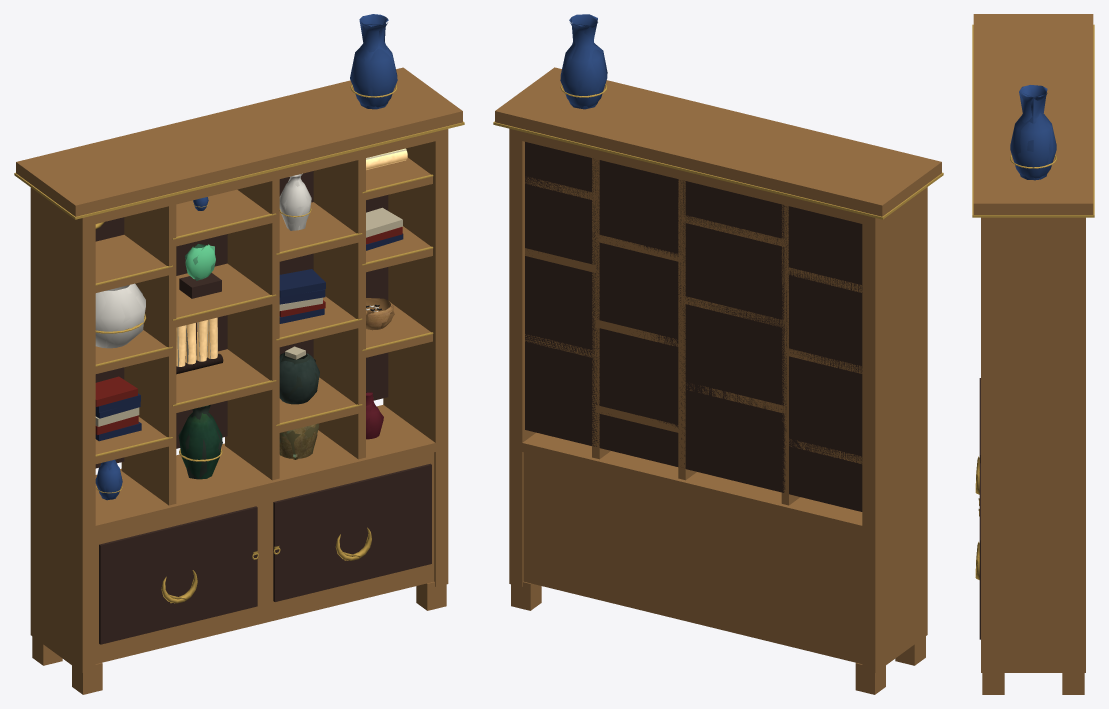
File: prop_curio_shelf.gltf
3 renders of one model, left to right at view 1: azimuth 30°, elevation 25°; view 2: azimuth 150°, elevation 25°; view 3: azimuth 270°, elevation 25°, orthographic.
Visible parts, largest first — view 1: Far, Near; view 2: Far, Near; view 3: Far, Near.
Part boxes in pixels (<box>): Far: <box>14,14,464,694</box>; Near: <box>95,22,433,603</box>; Far: <box>493,14,943,694</box>; Near: <box>560,22,607,107</box>; Far: <box>972,14,1094,694</box>; Near: <box>976,93,1056,579</box>.
Bounding box in the file's own units: 1.81 × 2.57 × 0.49.
17 materials, 9 textured.
